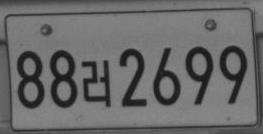2: (119, 47, 147, 107)
6: (152, 47, 181, 105)
8: (15, 50, 45, 109), (49, 49, 78, 108)
9: (218, 44, 248, 104), (184, 46, 214, 105)
러: (80, 59, 111, 107)
